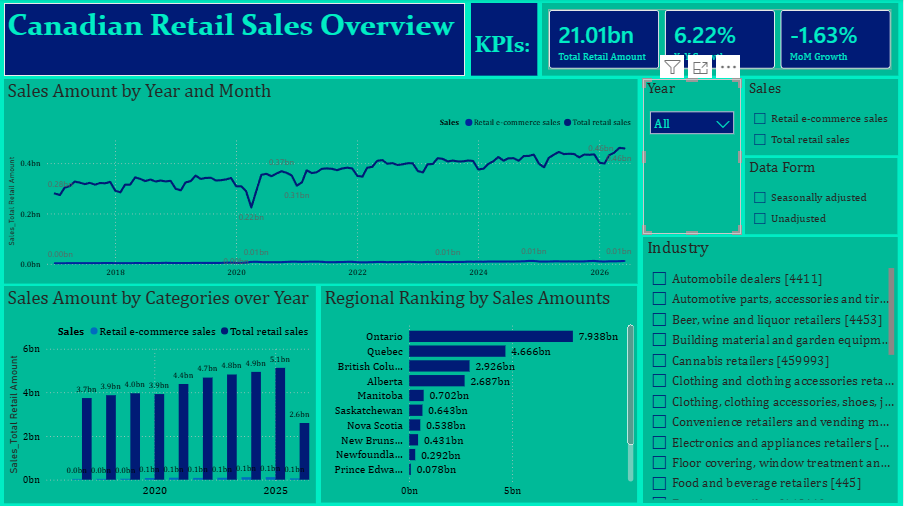

Layout of this report page (visuals, bound fields, positions):
{"tool":"powerbi","page":{"name":"Page 1","canvas":[1280,720],"ordinal":0},"visuals":[{"type":"lineChart","title":"Sales Amount by Year and Month","fields":{"Category":["20100056.Dated.Variation.Date Hierarchy.Year","20100056.Dated.Variation.Date Hierarchy.Month"],"Series":["20100056.Sales"],"Y":["Retail Sales Canada.Sales_Total Retail Amount"]},"box":[6.7,113.3,898.3,290],"z":0},{"type":"clusteredBarChart","title":"Regional Ranking by Sales Amounts","fields":{"Category":["Retail Sales Canada.Region"],"Y":["Retail Sales Canada.Region_Total Retail Amount"]},"box":[456.7,406.7,448,307],"z":1000},{"type":"slicer","title":"Year","fields":{"Values":["20100056.Dated.Variation.Date Hierarchy.Year","Retail Sales Canada.Dated.Variation.Date Hierarchy.Month"]},"box":[912.8,113.4,139,219.7],"z":2000},{"type":"slicer","title":"Data Form","fields":{"Values":["20100056.Data Form"]},"box":[1057.3,226,216,108],"z":3000},{"type":"slicer","title":"Industry","fields":{"Values":["20100056.Industry"]},"box":[912.8,338,361,377],"z":4000},{"type":"clusteredColumnChart","title":"Sales Amount by Categories over Year","fields":{"Category":["20100056.Dated.Variation.Date Hierarchy.Year"],"Series":["20100056.Sales"],"Y":["Retail Sales Canada.Sales_Total Retail Amount"]},"box":[6.7,406.7,442.2,307.6],"z":5000},{"type":"slicer","title":"Sales","fields":{"Values":["20100056.Sales"]},"box":[1057.3,113.4,216.9,108],"z":6000},{"type":"cardVisual","fields":{"Data":["20100056.Total Retail Amount","Retail Sales Canada.YoY Growth %","Retail Sales Canada.MoM Growth %"]},"box":[769.6,5,504.6,103.5],"z":7000},{"type":"textbox","box":[6.7,5,653.4,103.5],"z":8000},{"type":"textbox","box":[669,5.7,94,103.5],"z":9000}]}

Visuals, with their boxes in screenshot pixels (x1, y1, x2, y2), scaled from the page's 1280x720 canvas onto the 904x506 screenshot:
"Sales Amount by Year and Month" lineChart: (x1=5, y1=80, x2=639, y2=283)
"Regional Ranking by Sales Amounts" clusteredBarChart: (x1=323, y1=286, x2=639, y2=502)
"Year" slicer: (x1=645, y1=80, x2=743, y2=234)
"Data Form" slicer: (x1=747, y1=159, x2=899, y2=235)
"Industry" slicer: (x1=645, y1=238, x2=900, y2=502)
"Sales Amount by Categories over Year" clusteredColumnChart: (x1=5, y1=286, x2=317, y2=502)
"Sales" slicer: (x1=747, y1=80, x2=900, y2=156)
cardVisual - 20100056.Total Retail Amount x Retail Sales Canada.YoY Growth %: (x1=544, y1=4, x2=900, y2=76)
textbox: (x1=5, y1=4, x2=466, y2=76)
textbox: (x1=472, y1=4, x2=539, y2=77)
